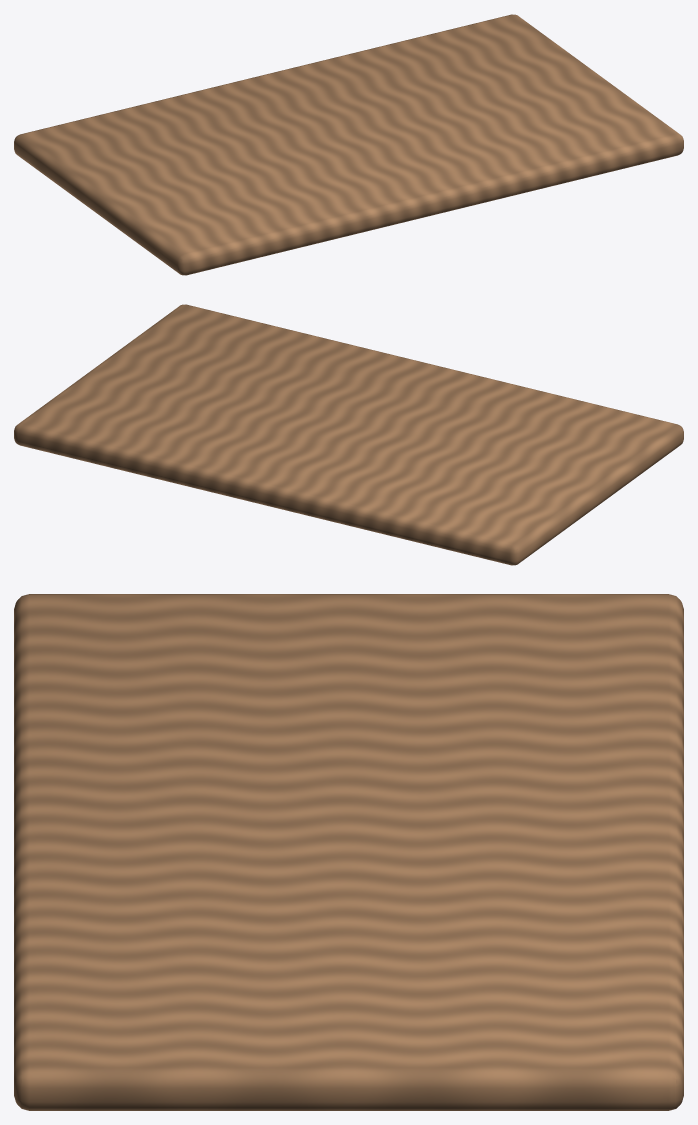
Rendered from drawbridge_leaf.glb.
The picture shows the model from 3 angles, top to bottom: view 1: azimuth 30°, elevation 25°; view 2: azimuth 150°, elevation 25°; view 3: azimuth 270°, elevation 25°; orthographic projection. The views are drawn at different scales.
Parts seen in each view (by area): view 1: drawbridge_leaf; view 2: drawbridge_leaf; view 3: drawbridge_leaf.
Part boxes in pixels (x1=…): drawbridge_leaf: x1=14, y1=14, x2=683, y2=275; drawbridge_leaf: x1=14, y1=304, x2=683, y2=565; drawbridge_leaf: x1=14, y1=594, x2=683, y2=1110.
Size of the model in its own units: 6 by 0.24 by 3.5.
1 material, 1 textured.
